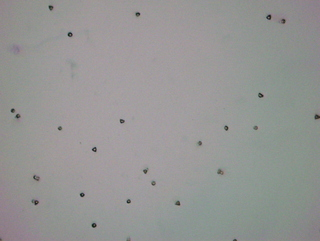nongerminated: (52, 123, 66, 139), (29, 169, 42, 185), (192, 135, 206, 148), (115, 113, 128, 127), (87, 220, 101, 233), (214, 164, 227, 177), (131, 10, 144, 23), (89, 143, 102, 156), (139, 164, 153, 176), (171, 197, 185, 209), (76, 188, 88, 202), (261, 10, 274, 22), (253, 90, 266, 102), (63, 29, 76, 41), (45, 2, 58, 14), (123, 194, 136, 206), (30, 196, 43, 208), (148, 178, 160, 190), (279, 16, 292, 27), (250, 120, 260, 134), (222, 122, 233, 133), (6, 104, 17, 114), (13, 112, 23, 122)
